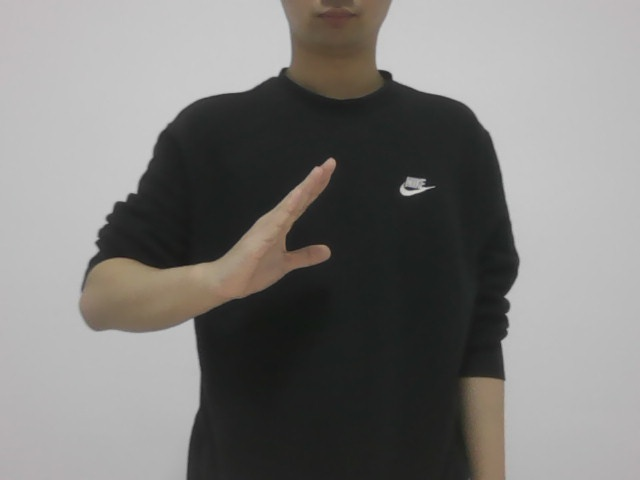morning: (215, 160, 348, 308)
